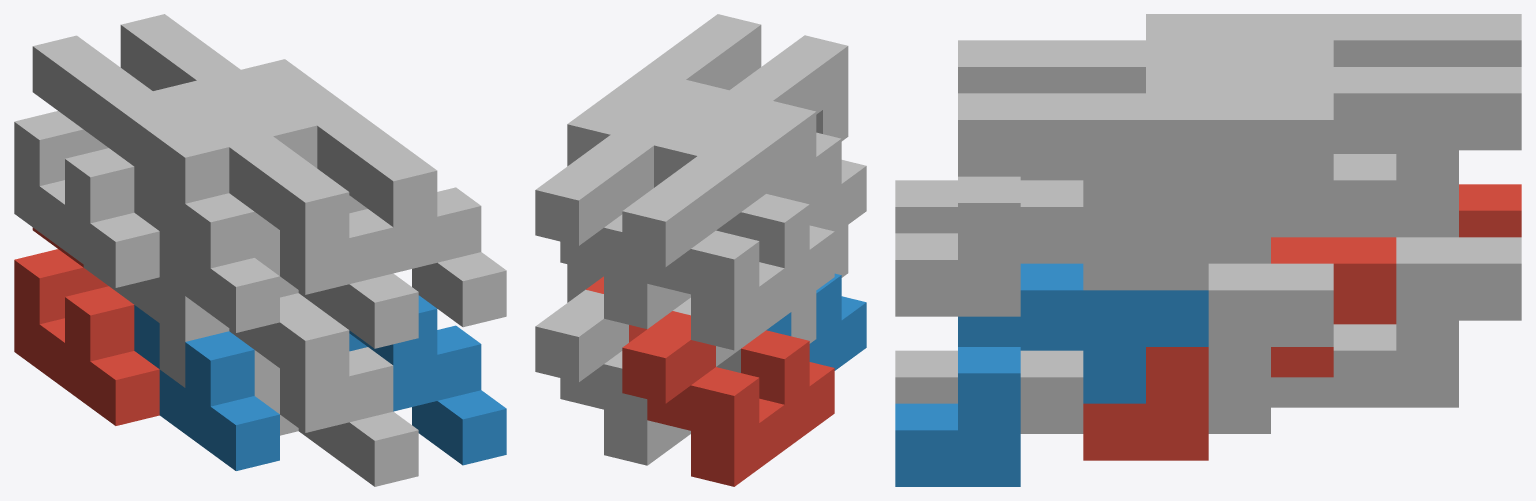
The model's file is tiling.obj.
The picture shows the model from 3 angles, left to right: view 1: azimuth 30°, elevation 25°; view 2: azimuth 150°, elevation 25°; view 3: azimuth 270°, elevation 25°; orthographic projection. The views are drawn at different scales.
Visible parts, largest first — view 1: copy_2_domain_4, copy_1_domain_3, copy_2_domain_8, copy_2_domain_2, copy_1_domain_1, copy_1_domain_4, copy_2_domain_3, copy_1_domain_2, copy_2_domain_6, copy_2_domain_7, copy_2_domain_1, copy_1_domain_7 (+1 smaller); view 2: copy_1_domain_3, copy_1_domain_1, copy_1_domain_7, copy_1_domain_5, copy_2_domain_3, copy_2_domain_4, copy_1_domain_4, copy_2_domain_8, copy_2_domain_7, copy_1_domain_2, copy_1_domain_8, copy_2_domain_1 (+2 smaller); view 3: copy_2_domain_8, copy_2_domain_6, copy_1_domain_5, copy_1_domain_7, copy_2_domain_7, copy_1_domain_8, copy_1_domain_6, copy_2_domain_5, copy_2_domain_4, copy_2_domain_3, copy_1_domain_3, copy_1_domain_1 (+2 smaller).
Part boxes in pixels (x1=…): copy_2_domain_4: x1=204, y1=117, x2=418, y2=348; copy_1_domain_3: x1=14, y1=35, x2=159, y2=287; copy_2_domain_8: x1=292, y1=96, x2=506, y2=327; copy_2_domain_2: x1=229, y1=293, x2=418, y2=486; copy_1_domain_1: x1=14, y1=227, x2=159, y2=425; copy_1_domain_4: x1=134, y1=80, x2=279, y2=332; copy_2_domain_3: x1=83, y1=72, x2=298, y2=297; copy_1_domain_2: x1=134, y1=305, x2=279, y2=470; copy_2_domain_6: x1=349, y1=295, x2=506, y2=465; copy_2_domain_7: x1=171, y1=51, x2=317, y2=167; copy_2_domain_1: x1=83, y1=265, x2=298, y2=435; copy_1_domain_7: x1=120, y1=14, x2=215, y2=90; copy_1_domain_3: x1=622, y1=174, x2=834, y2=350; copy_1_domain_1: x1=622, y1=311, x2=834, y2=486; copy_1_domain_7: x1=535, y1=153, x2=690, y2=329; copy_1_domain_5: x1=535, y1=289, x2=690, y2=465; copy_2_domain_3: x1=673, y1=101, x2=816, y2=236; copy_2_domain_4: x1=705, y1=35, x2=848, y2=141; copy_1_domain_4: x1=654, y1=108, x2=866, y2=234; copy_2_domain_8: x1=617, y1=14, x2=761, y2=97; copy_2_domain_7: x1=586, y1=80, x2=728, y2=205; copy_1_domain_2: x1=766, y1=273, x2=866, y2=370; copy_1_domain_8: x1=567, y1=87, x2=660, y2=166; copy_2_domain_1: x1=673, y1=291, x2=816, y2=372; copy_2_domain_8: x1=895, y1=93, x2=1208, y2=316; copy_2_domain_6: x1=895, y1=263, x2=1208, y2=486; copy_1_domain_5: x1=1271, y1=237, x2=1521, y2=407; copy_1_domain_7: x1=1271, y1=67, x2=1521, y2=237; copy_2_domain_7: x1=1083, y1=67, x2=1396, y2=290; copy_1_domain_8: x1=1020, y1=93, x2=1333, y2=263; copy_1_domain_6: x1=1020, y1=263, x2=1333, y2=433; copy_2_domain_5: x1=1083, y1=237, x2=1396, y2=460; copy_2_domain_4: x1=895, y1=40, x2=1208, y2=233; copy_2_domain_3: x1=1146, y1=14, x2=1396, y2=66; copy_1_domain_3: x1=1333, y1=14, x2=1521, y2=153; copy_1_domain_1: x1=1333, y1=184, x2=1521, y2=324.
Size of the model in its own units: 6 by 6 by 10.
